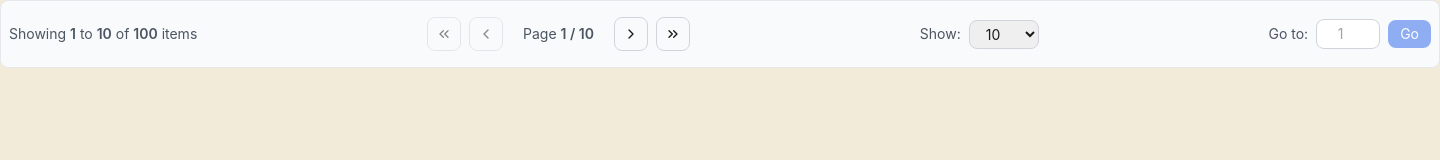
Test case: Pagination Component › jump to page › should clear input after successful navigation
The image size is (1440, 160).
Type "5" into the number field at point(1348, 34), box [1316,19,1380,49]
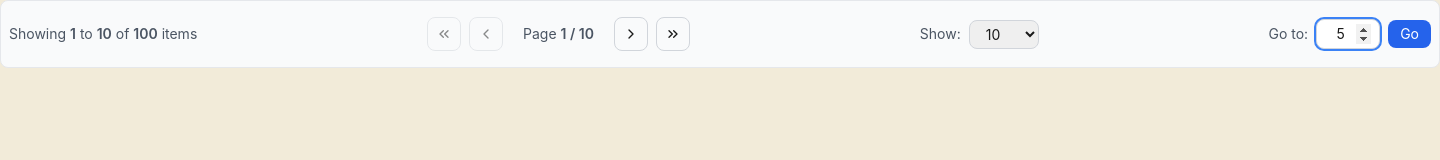
Click the button "Go" at point(1410, 34), box [1388,20,1431,48]
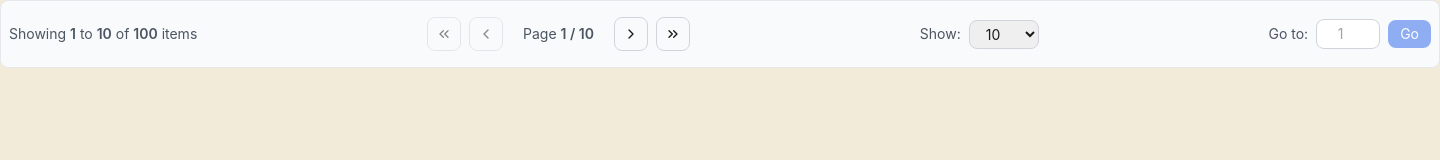
Result: the number field is not empty at [1316,19,1380,49]
